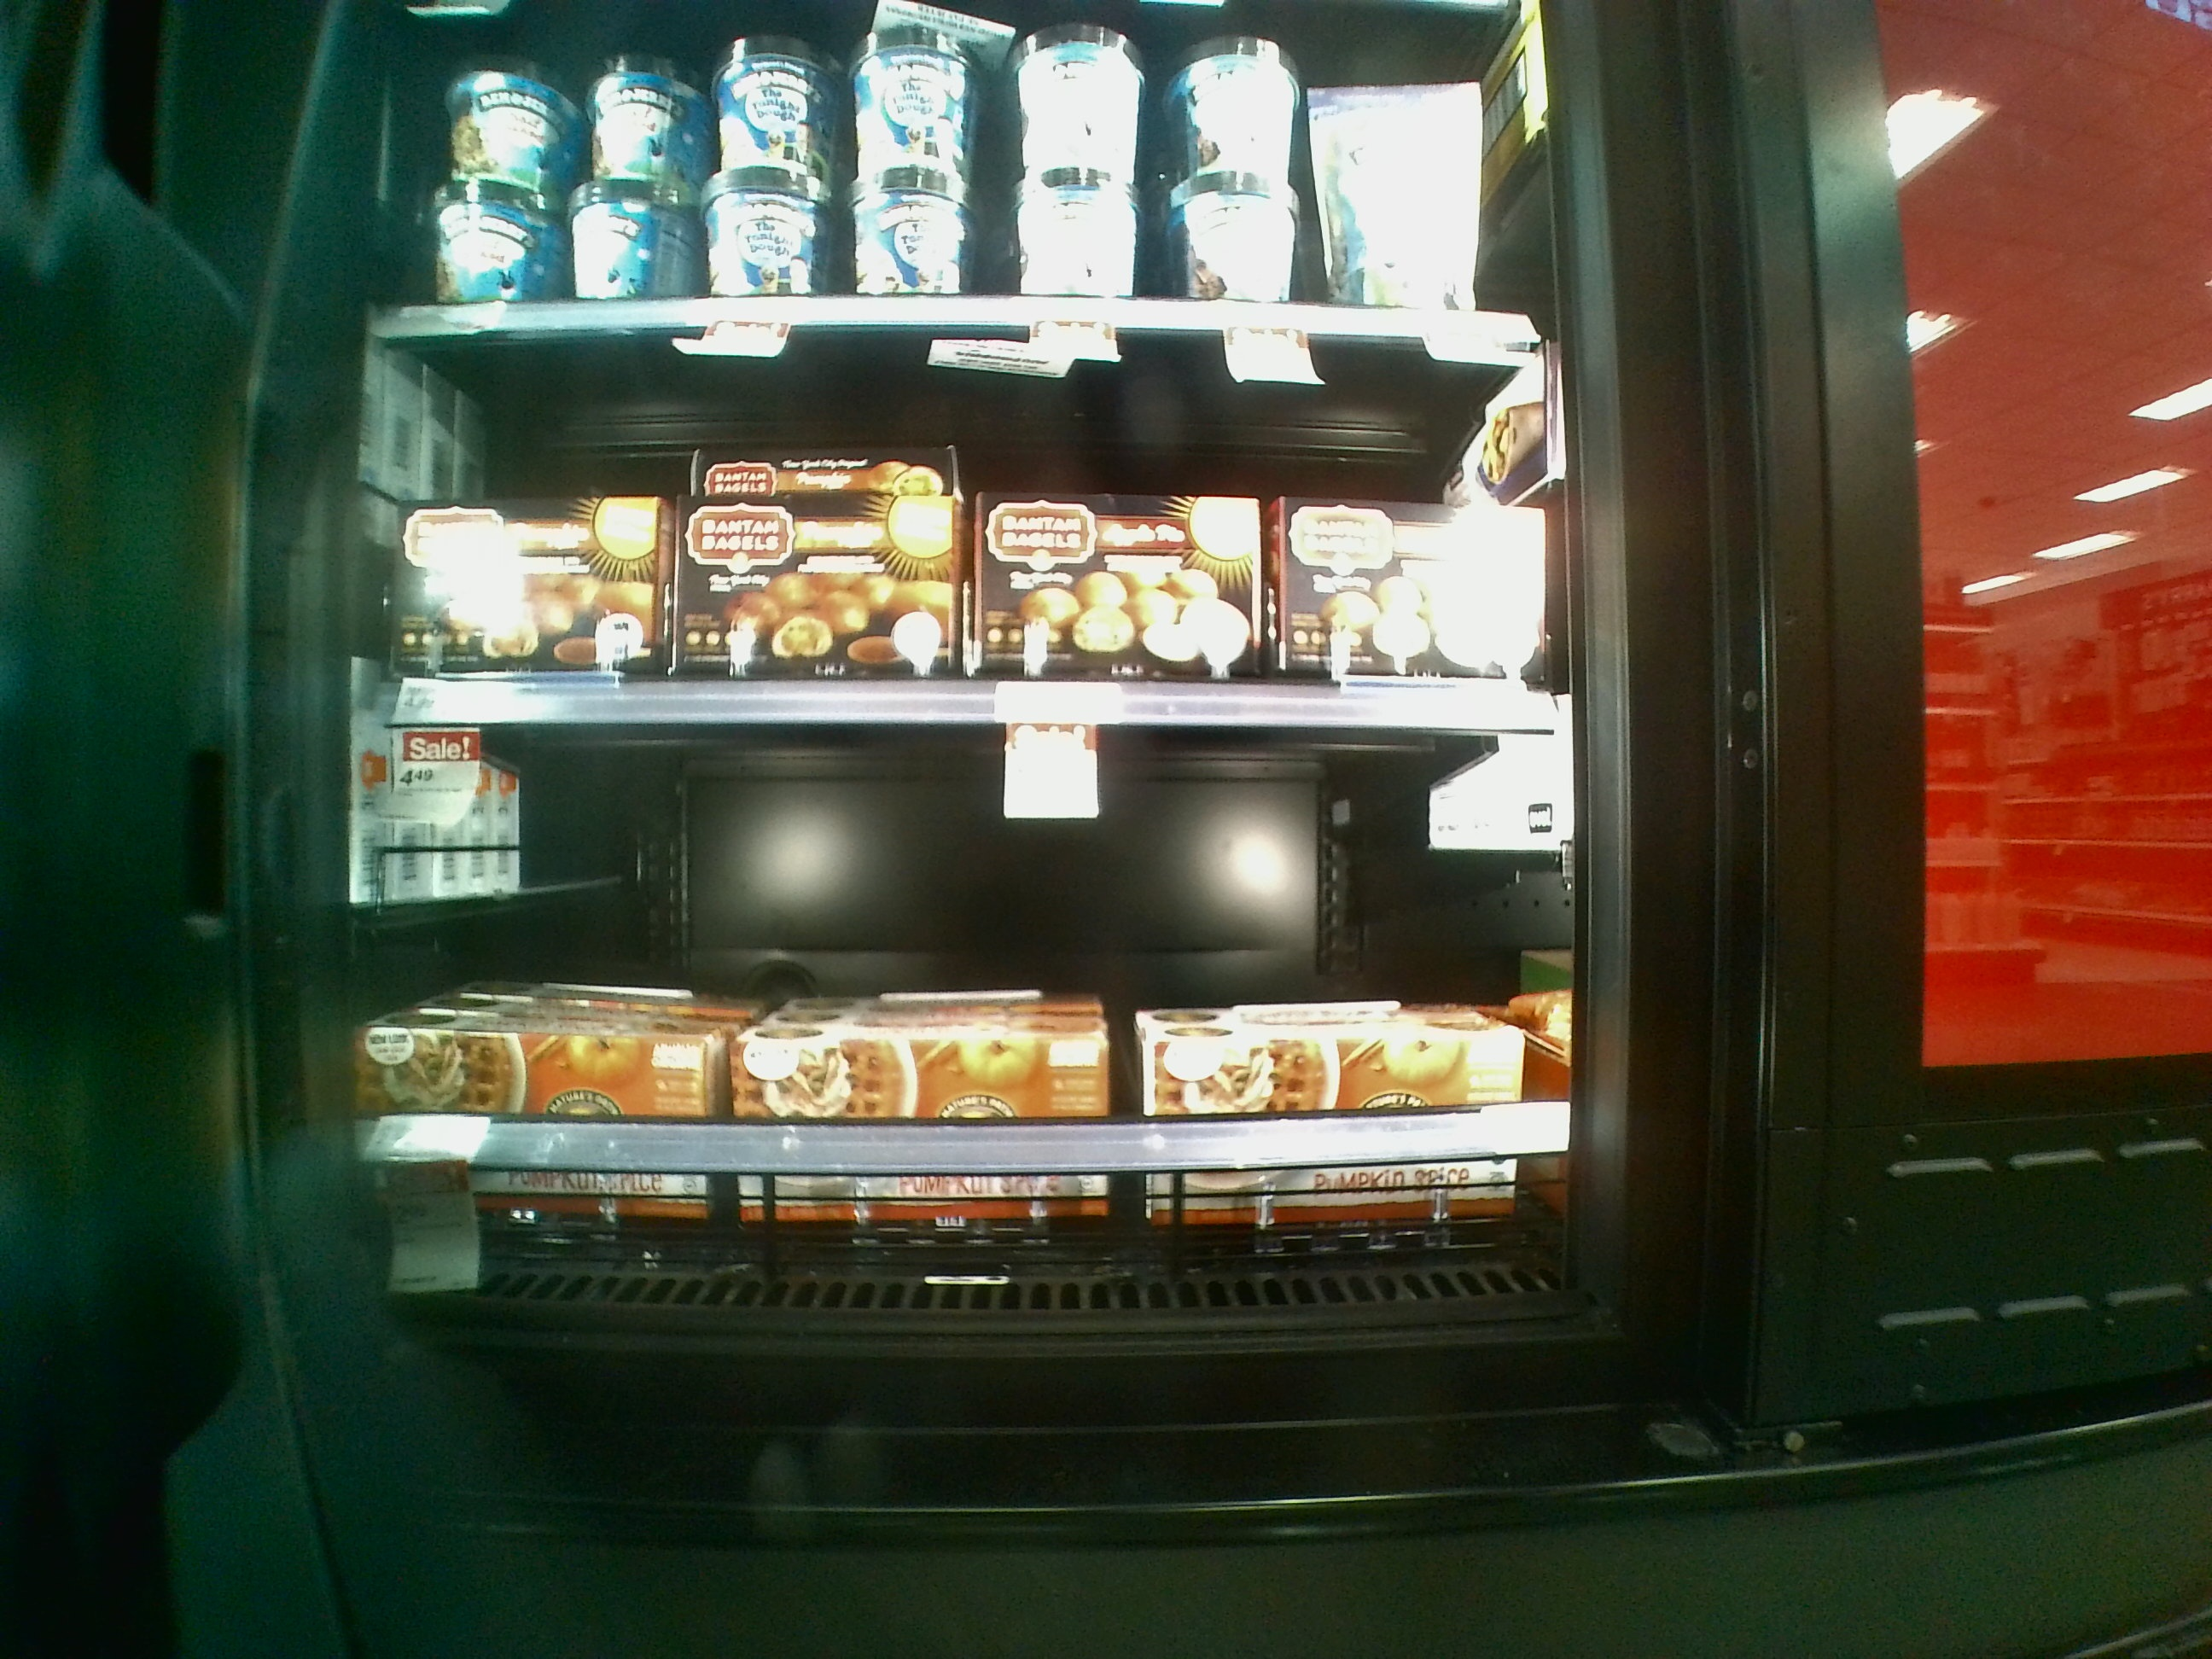shelf: (314, 718, 1602, 1335), (340, 343, 1571, 741)
